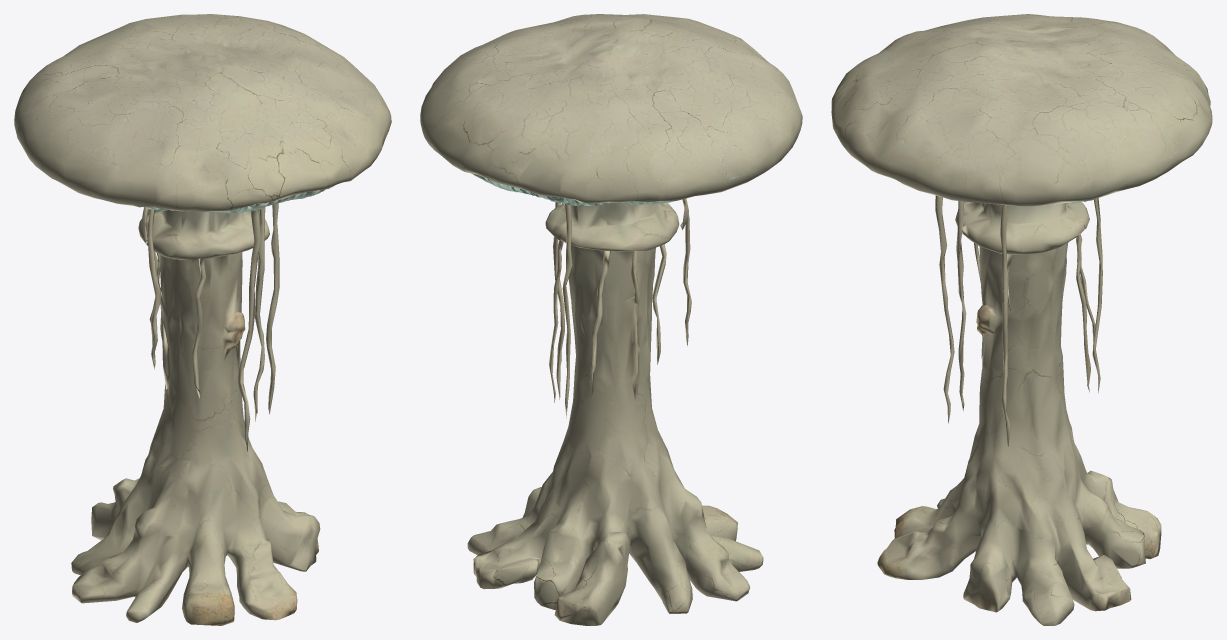
File: giant-mushroom.glb
3 views of the same model, side by side, from view 1: azimuth 30°, elevation 25°; view 2: azimuth 150°, elevation 25°; view 3: azimuth 270°, elevation 25° (orthographic).
Size of the model in its own units: 1.24 by 1.9 by 1.26.
1 material, 1 textured.
